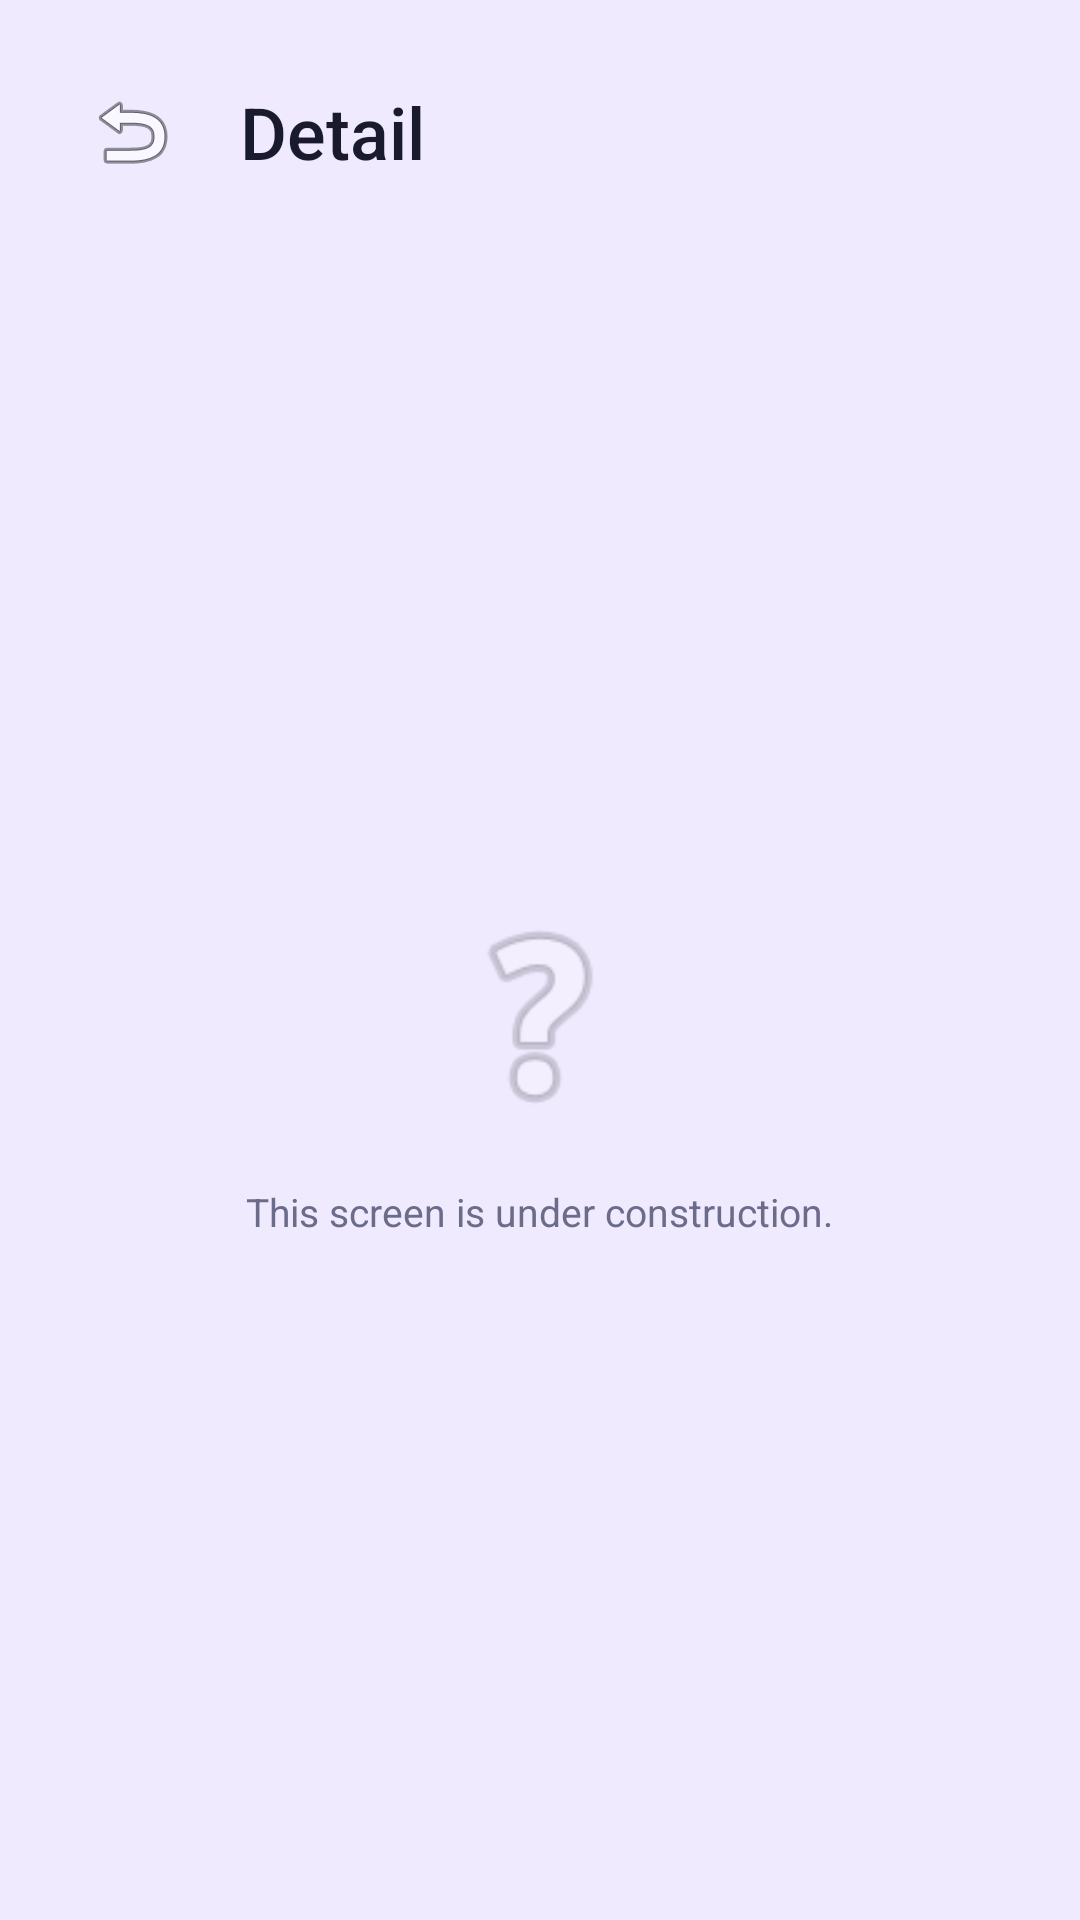

Screen size 1080w x 1920h. Icon name, then its box in pixels as bbox=[x1, y1, x2, y2]:
Back: bbox=[99, 101, 168, 164]
help: bbox=[489, 932, 592, 1102]
